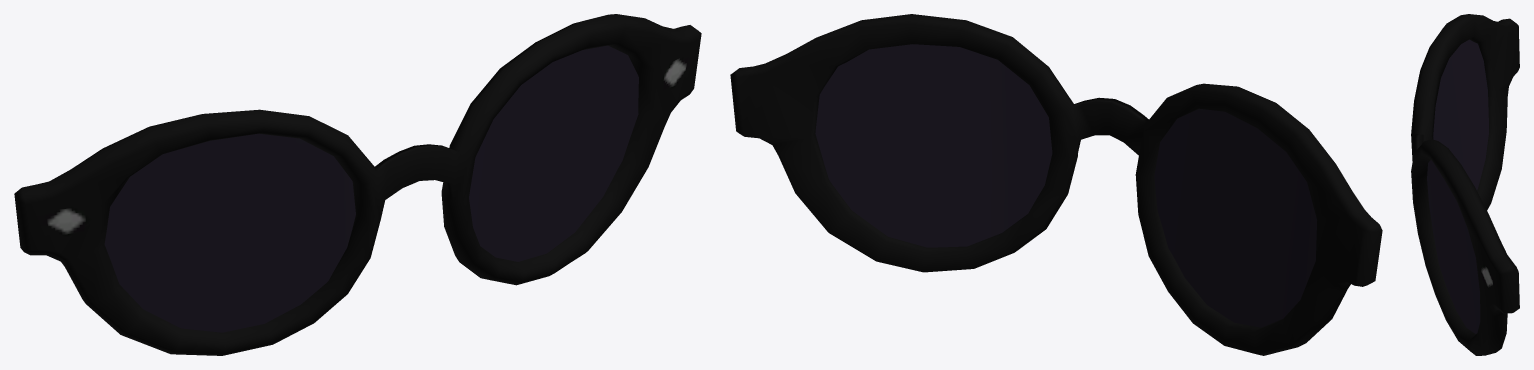
File: AccessoryGlassBoston0.glb
3 views of the same model, side by side, from view 1: azimuth 30°, elevation 25°; view 2: azimuth 150°, elevation 25°; view 3: azimuth 270°, elevation 25° (orthographic). The views are drawn at different scales.
Visible parts, largest first — view 1: AccessoryAlpha__AccessoryGlassBostonBlackHigh_mAccessory; view 2: AccessoryAlpha__AccessoryGlassBostonBlackHigh_mAccessory; view 3: AccessoryAlpha__AccessoryGlassBostonBlackHigh_mAccessory.
Boxes of the visible parts, box(x1,y1,x2,y2) form: AccessoryAlpha__AccessoryGlassBostonBlackHigh_mAccessory: box(14, 14, 701, 355); AccessoryAlpha__AccessoryGlassBostonBlackHigh_mAccessory: box(730, 14, 1382, 355); AccessoryAlpha__AccessoryGlassBostonBlackHigh_mAccessory: box(1411, 14, 1519, 355).
Size of the model in its own units: 6.82 by 2.42 by 1.24.
1 material, 1 textured.
